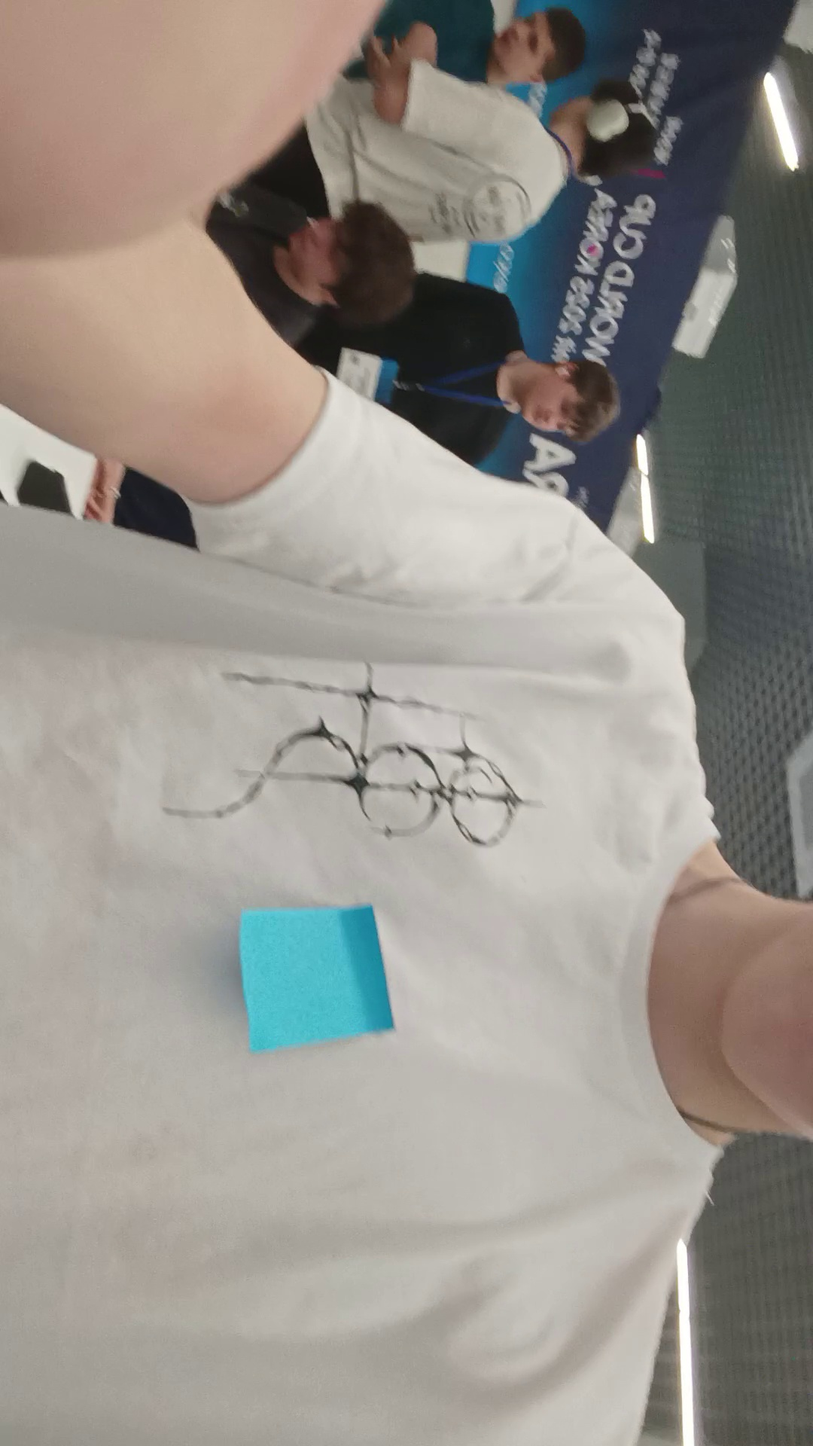marker: (243, 907, 391, 1049), (506, 212, 554, 330), (519, 0, 598, 27), (467, 244, 501, 288), (542, 78, 568, 124), (571, 72, 592, 93), (383, 360, 397, 379), (510, 86, 529, 99), (481, 460, 498, 468), (591, 23, 604, 32)
